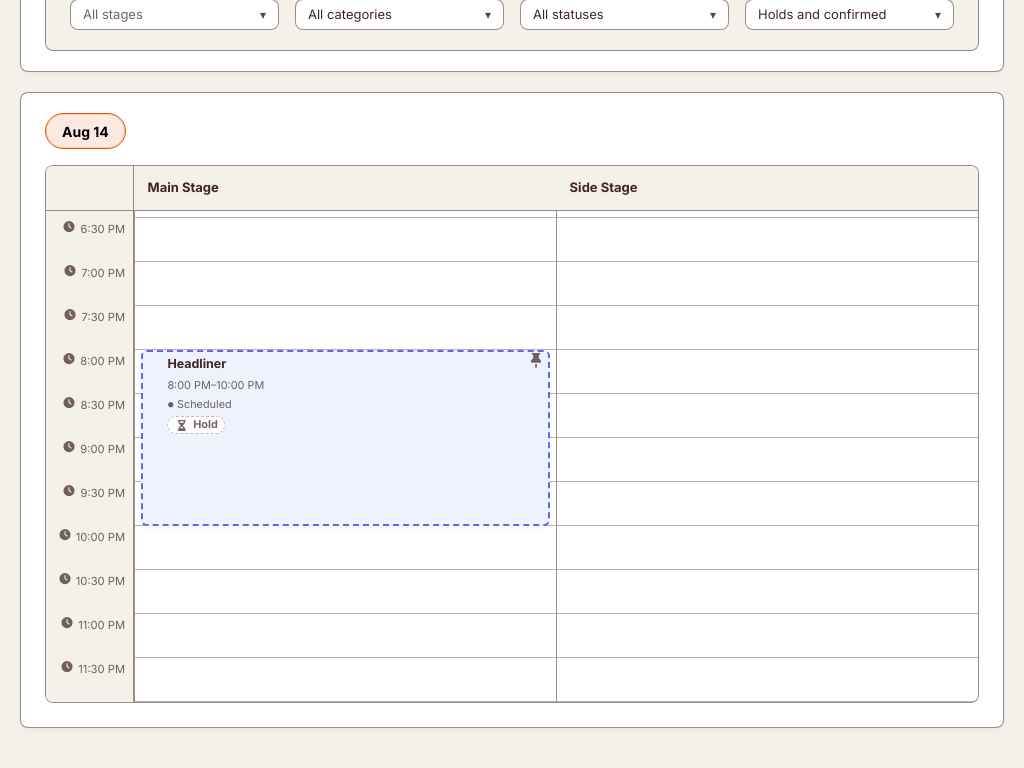
Test: FestivalItineraryPage › routes a rejected resize to the conflict dialog and leaves the block at its prior duration
The image size is (1024, 768).
(page scrolled)
Press the mouse on the element with test id "timeline-block-resize-end-block-1": (346,514) [143,508,548,520]
Hover over the element with test id "timeline-slot-stage-1-22:30": (346,592) [135,570,556,614]
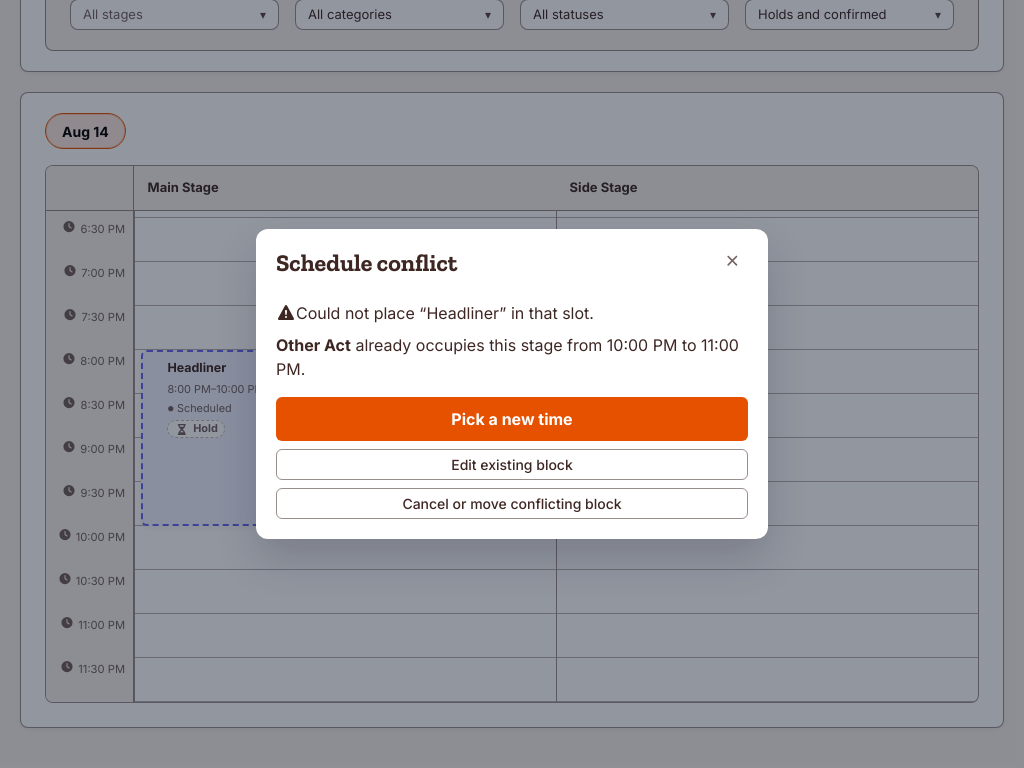
expect the text "Other Act" is shown: met, box [276,335,351,355]
